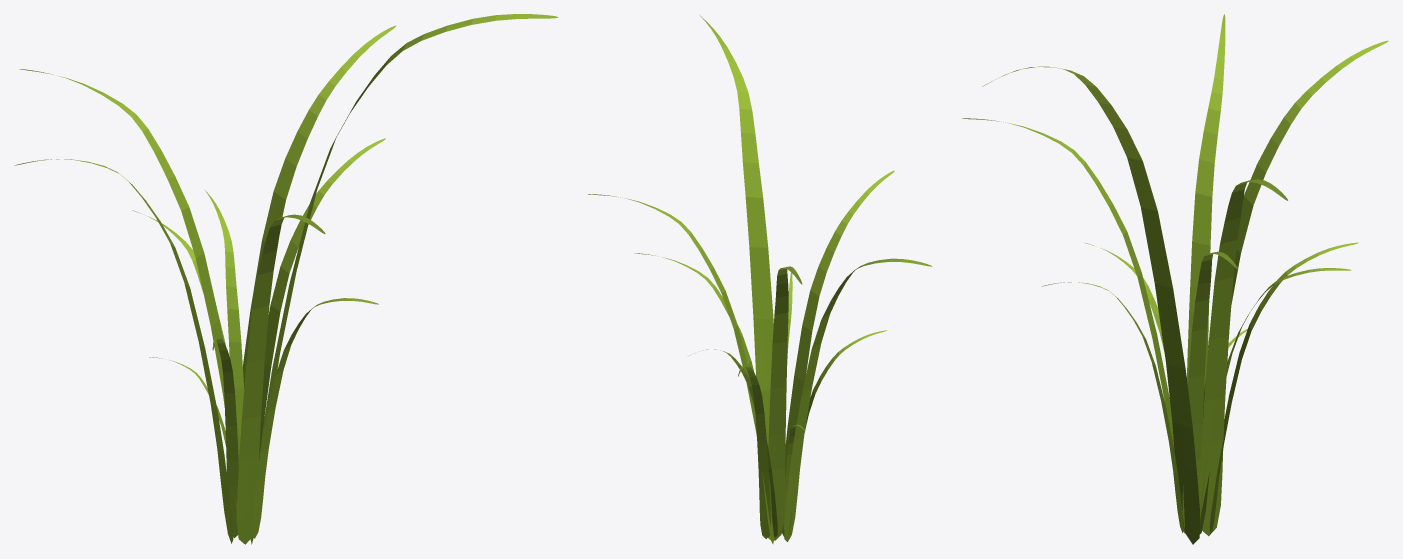
File: gras4.fbx
3 renders of one model, left to right at view 1: azimuth 30°, elevation 25°; view 2: azimuth 150°, elevation 25°; view 3: azimuth 270°, elevation 25°, orthographic. The views are drawn at different scales.
Visible parts, largest first — view 1: Trava1.014; view 2: Trava1.014; view 3: Trava1.014.
Part boxes in pixels (x1=…): Trava1.014: x1=14, y1=14, x2=558, y2=544; Trava1.014: x1=588, y1=14, x2=932, y2=544; Trava1.014: x1=962, y1=14, x2=1388, y2=544.
Size of the model in its own units: 847 by 1064 by 739.
